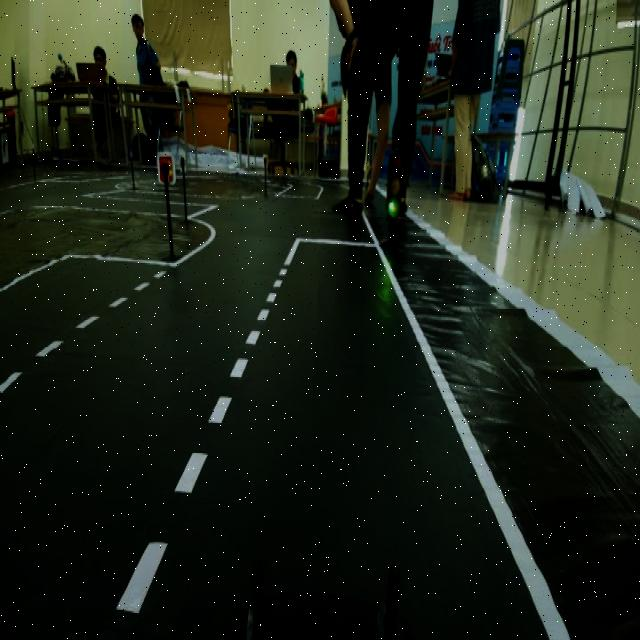trafficlight: (377, 131, 413, 257)
